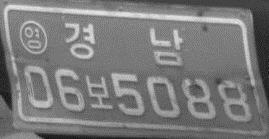0: (145, 74, 181, 120), (22, 65, 55, 109)
5: (109, 70, 146, 116)
6: (53, 65, 86, 112)
8: (217, 78, 253, 124), (180, 76, 218, 119)
경남_D: (62, 21, 186, 68)
보: (84, 72, 114, 111)
영: (17, 19, 48, 55)
